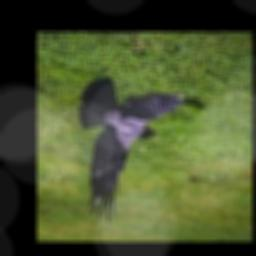Crow: (79, 76, 205, 224)
